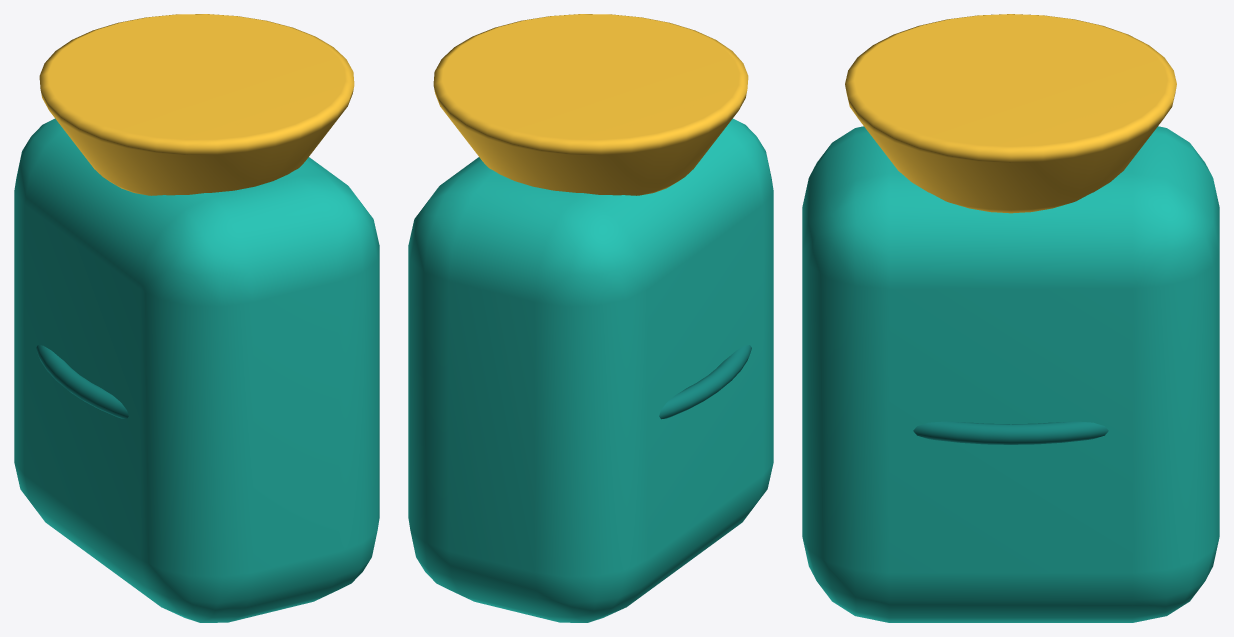
File: IncubatorOutlet.fbx
3 views of the same model, side by side, from view 1: azimuth 30°, elevation 25°; view 2: azimuth 150°, elevation 25°; view 3: azimuth 270°, elevation 25° (orthographic). The views are drawn at different scales.
Visible parts, largest first — view 1: IncubatorOutlet mesh; view 2: IncubatorOutlet mesh; view 3: IncubatorOutlet mesh.
Part boxes in pixels (x1=…): IncubatorOutlet mesh: x1=14, y1=14, x2=379, y2=622; IncubatorOutlet mesh: x1=408, y1=14, x2=773, y2=622; IncubatorOutlet mesh: x1=802, y1=14, x2=1219, y2=622.
Size of the model in its own units: 0.1909 by 0.325 by 0.24.
